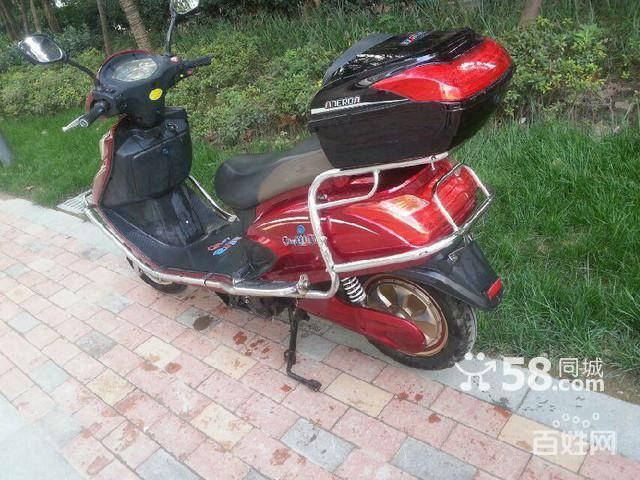电动车: (48, 1, 530, 396)
